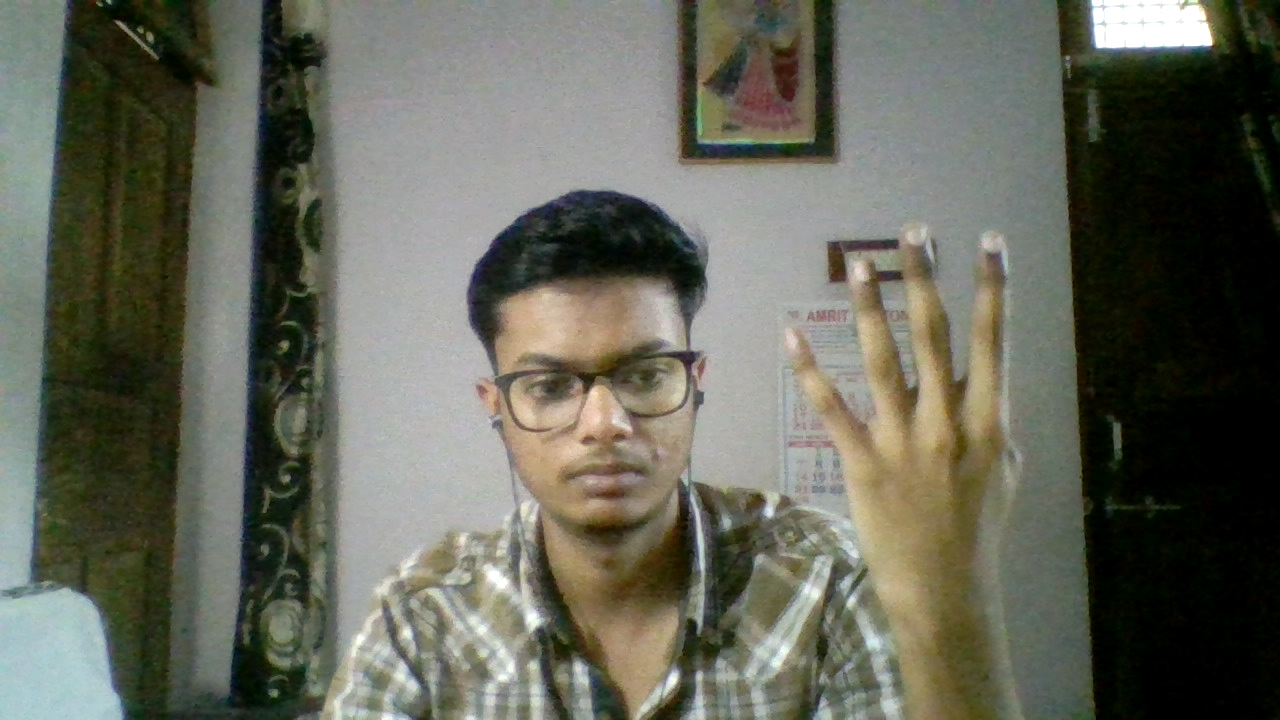four: (765, 216, 1075, 648)
